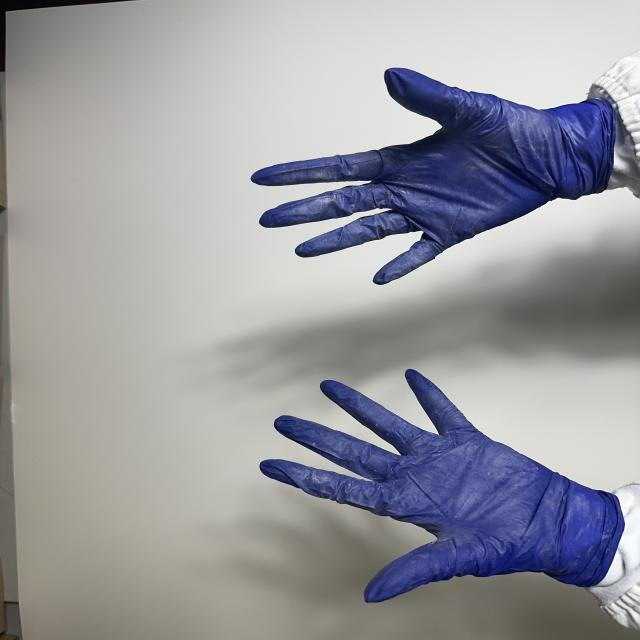gloves_contaminated: (260, 370, 622, 601), (252, 69, 614, 284)
